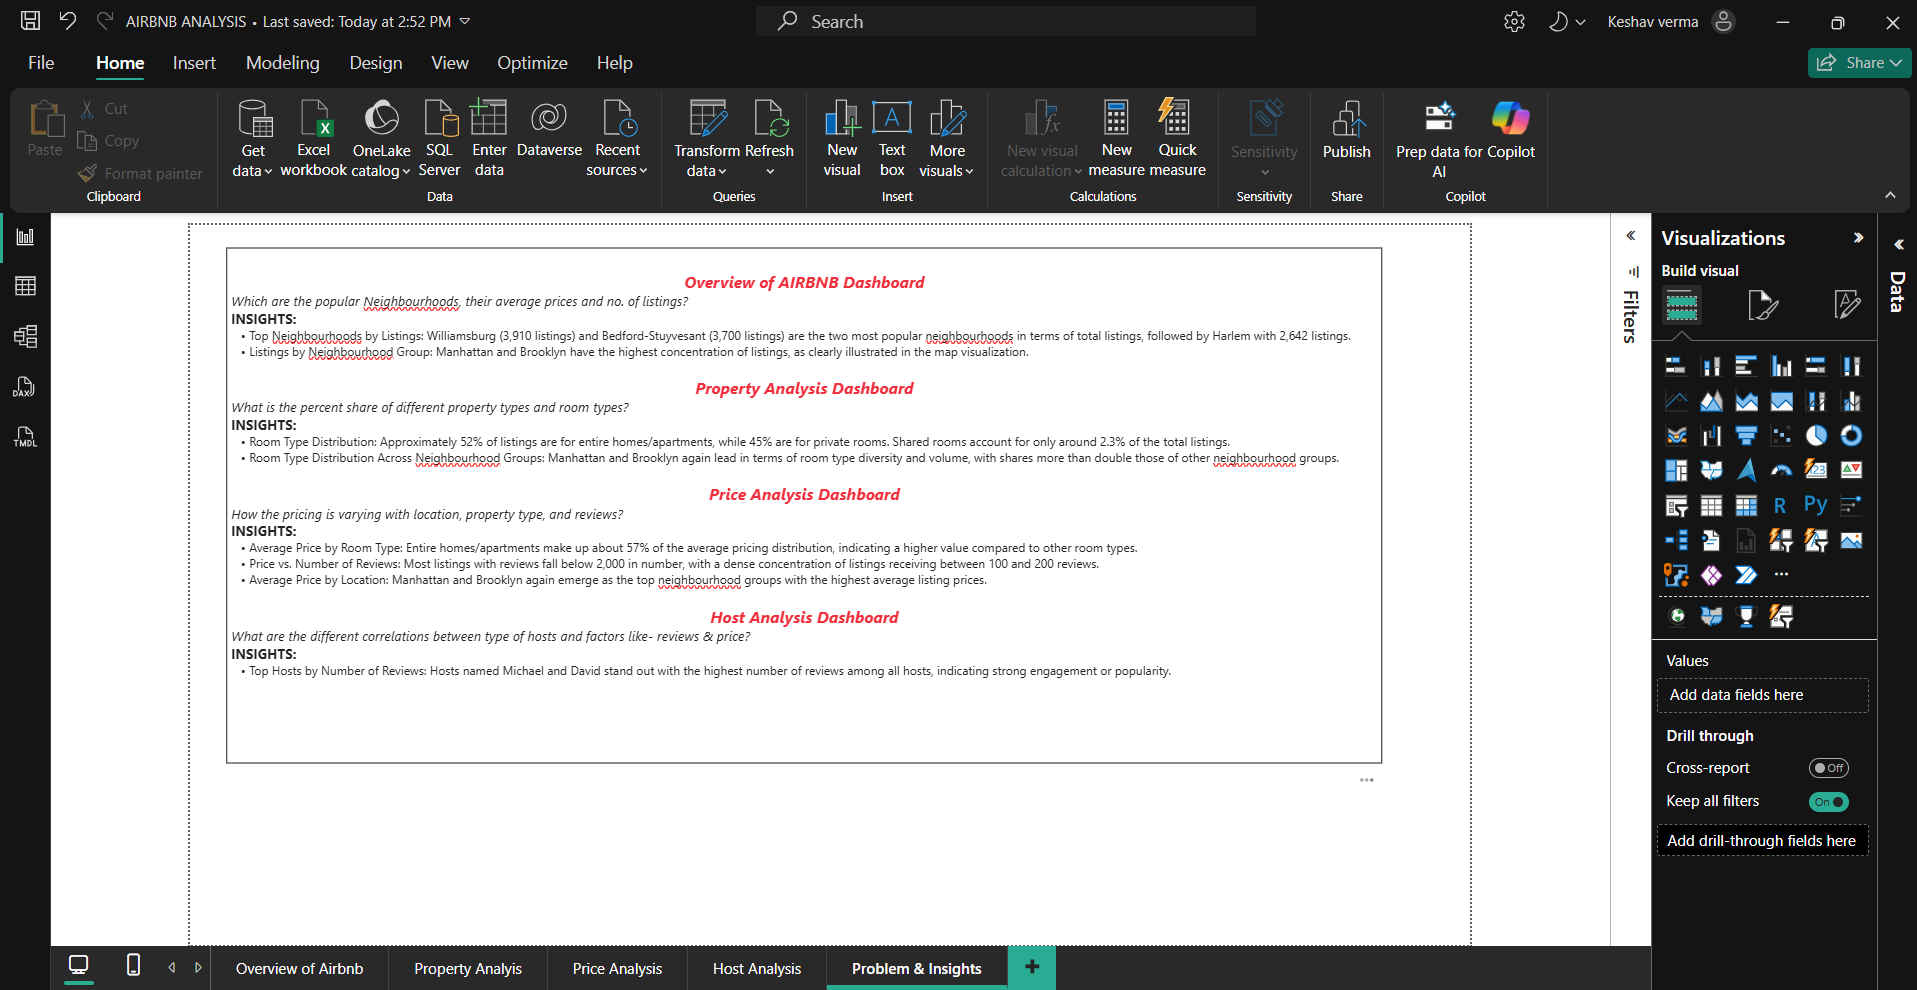

What the dashboard file says about the page in this screenshot:
{"tool":"powerbi","page":{"name":"Problem Areas","canvas":[1280,720],"ordinal":4},"visuals":[{"type":"textbox","box":[11.6,56.9,921.3,377.8],"z":0}]}

Visuals, with their boxes on the page's 1280x720 design canvas (x1, y1, x2, y2). These are canvas units, not pixel positions in the 1917x990 screenshot, which may show the page scaled, cropped or inside an application window:
textbox: BBox(12, 57, 933, 435)
